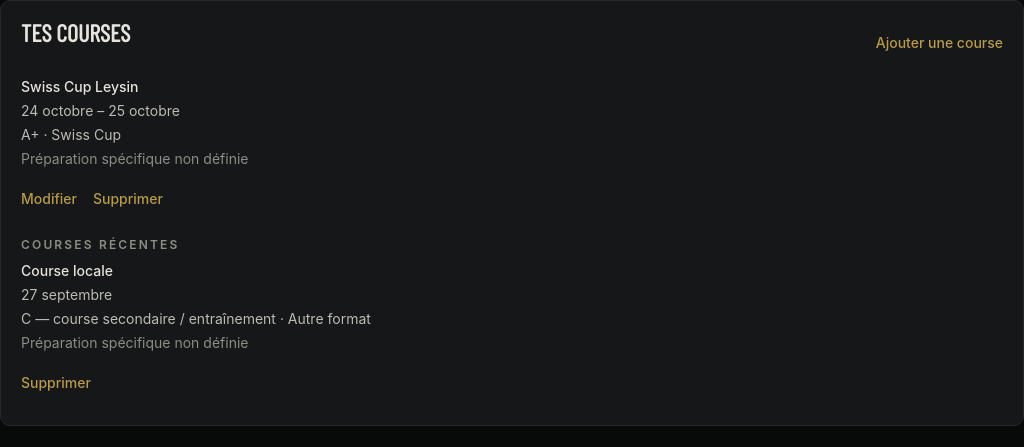
Scenario: A09 — Tes courses › delete: confirmed, the race leaves the list
What coordinates should you click on to do the following:
click the button with aria-label "Supprimer Swiss Cup Leysin"
I would click on:
 (128, 199)
Its box is [93,177,163,221].
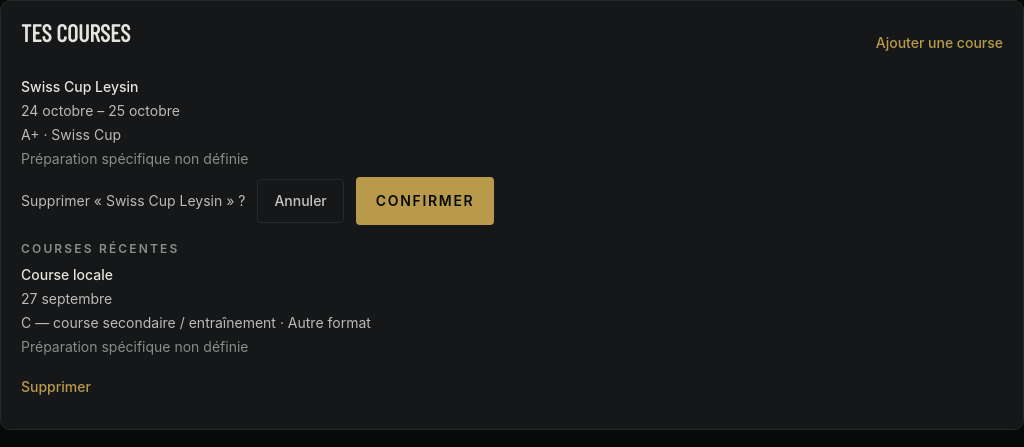
Check: the text "Supprimer « Swiss Cup Leysin » ?" is shown, box [21,191,245,211]
What coordinates should you click on to do the following:
click the button "Confirmer"
I would click on:
 (425, 201)
Its box is [356,177,494,225].
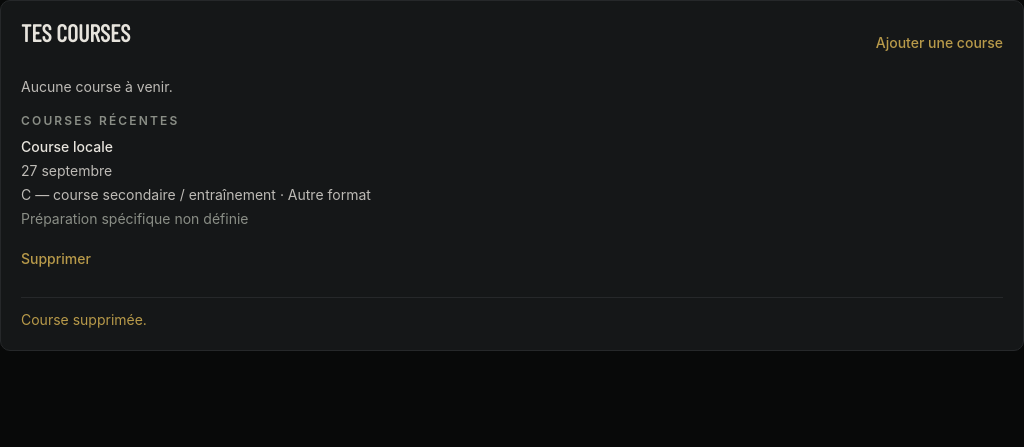
Check: the text "Swiss Cup Leysin" is gone
Check: the text "Aucune course à venir." is shown, box [21,78,173,95]
